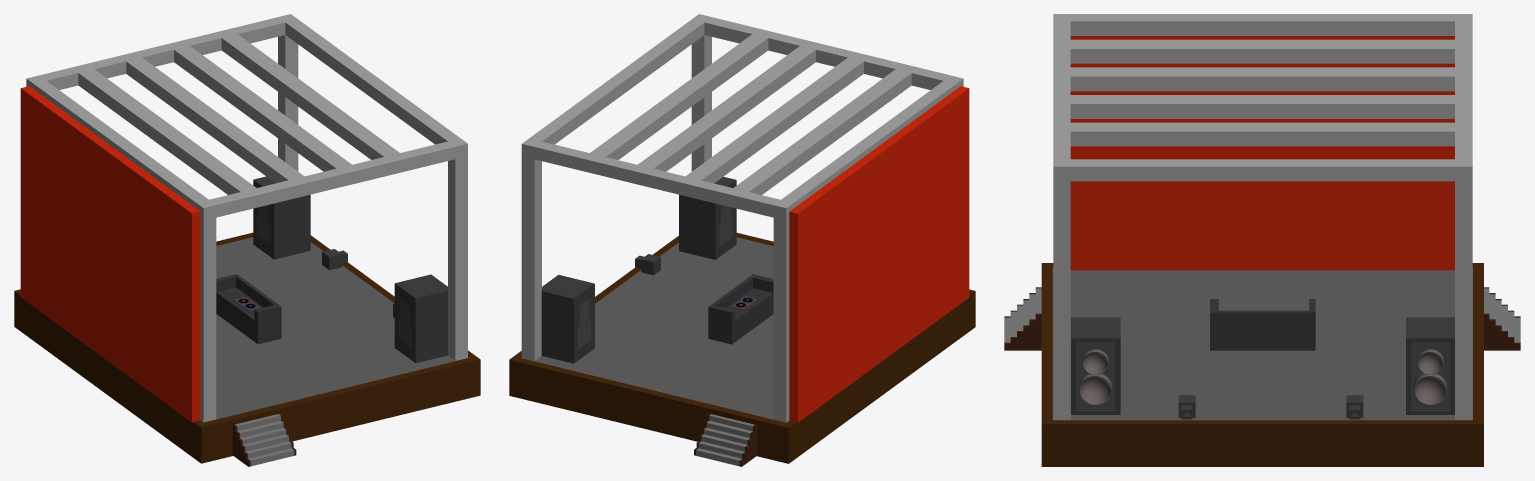
Rendered from DJland.fbx.
3 renders of one model, left to right at view 1: azimuth 30°, elevation 25°; view 2: azimuth 150°, elevation 25°; view 3: azimuth 270°, elevation 25°, orthographic. The views are drawn at different scales.
Parts seen in each view (by area): view 1: Gerüst, HinterGrundBühne, Bühne, Sprecher, Sprecher.001, DJPult, Treppelein; view 2: Gerüst, HinterGrundBühne, Bühne, Sprecher.001, Sprecher, DJPult, Treppelein.001; view 3: Gerüst, Bühne, HinterGrundBühne, DJPult, Sprecher, Sprecher.001, Treppelein, Treppelein.001, Lauter, Lauter.001.
Part boxes in pixels (<box>): Gerüst: <box>26,14,467,422</box>; HinterGrundBühne: <box>20,86,200,422</box>; Bühne: <box>14,232,480,463</box>; Sprecher: <box>394,274,447,363</box>; Sprecher.001: <box>253,176,310,259</box>; DJPult: <box>216,274,281,344</box>; Treppelein: <box>232,413,296,466</box>; Gerüst: <box>521,14,963,422</box>; HinterGrundBühne: <box>789,86,969,422</box>; Bühne: <box>509,233,975,463</box>; Sprecher.001: <box>541,274,594,363</box>; Sprecher: <box>679,176,736,259</box>; DJPult: <box>708,274,773,344</box>; Treppelein.001: <box>694,413,757,466</box>; Gerüst: <box>1053,14,1472,419</box>; Bühne: <box>1041,263,1483,466</box>; HinterGrundBühne: <box>1070,36,1454,270</box>; DJPult: <box>1210,299,1315,350</box>; Sprecher: <box>1071,317,1120,414</box>; Sprecher.001: <box>1406,317,1454,414</box>; Treppelein: <box>1004,287,1041,350</box>; Treppelein.001: <box>1484,287,1520,350</box>; Lauter: <box>1079,349,1112,404</box>; Lauter.001: <box>1414,349,1447,404</box>.
Size of the model in its own units: 726 by 618 by 977.
